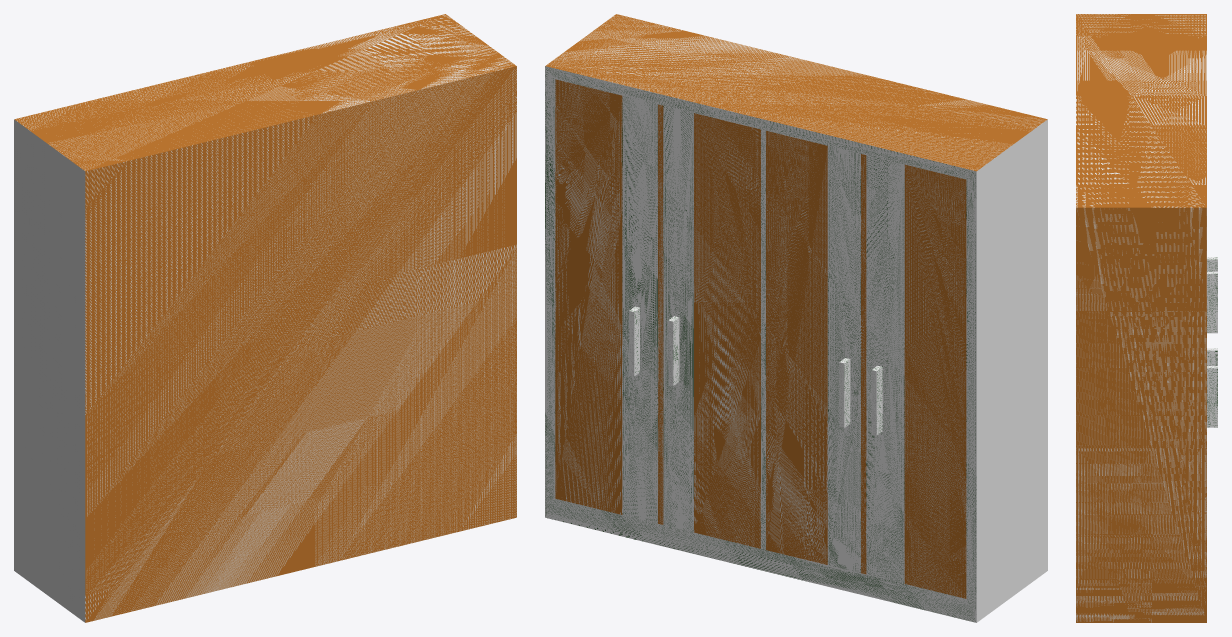
3 views of the same model, side by side, from view 1: azimuth 30°, elevation 25°; view 2: azimuth 150°, elevation 25°; view 3: azimuth 270°, elevation 25° (orthographic). The views are drawn at different scales.
Visible parts, largest first — view 1: mesh1_mesh1-geometry; view 2: mesh1_mesh1-geometry; view 3: mesh1_mesh1-geometry.
Part boxes in pixels (x1,y1,x2,y2): mesh1_mesh1-geometry: (14,14,516,622); mesh1_mesh1-geometry: (545,14,1047,622); mesh1_mesh1-geometry: (1076,14,1217,622).
Size of the model in its own units: 0.6908 by 0.6908 by 0.2138.
